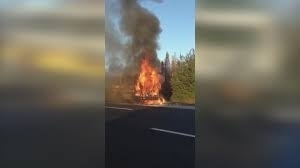fire: (130, 52, 172, 105)
